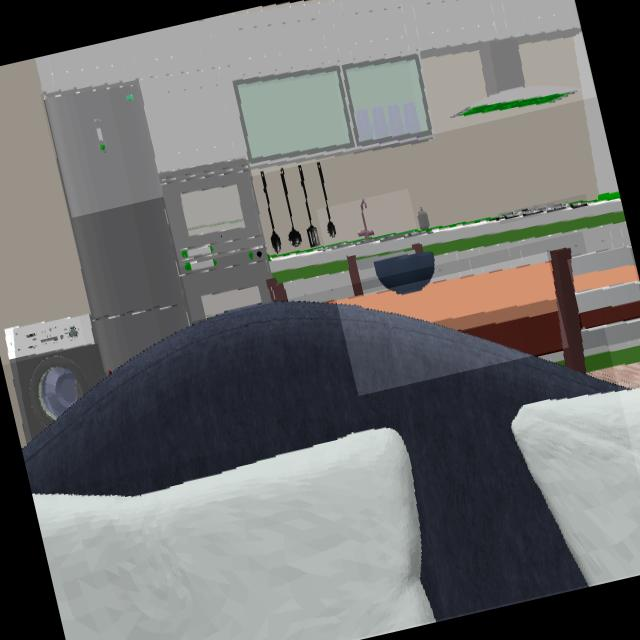cabinet: (36, 0, 581, 172)
fridge: (45, 79, 190, 371)
microwave: (159, 159, 265, 260)
pillow: (32, 428, 433, 640)
sink: (325, 199, 418, 250)
sofa: (22, 301, 617, 619)
stove: (498, 201, 587, 220)
table: (336, 261, 562, 355), (573, 245, 640, 327)
